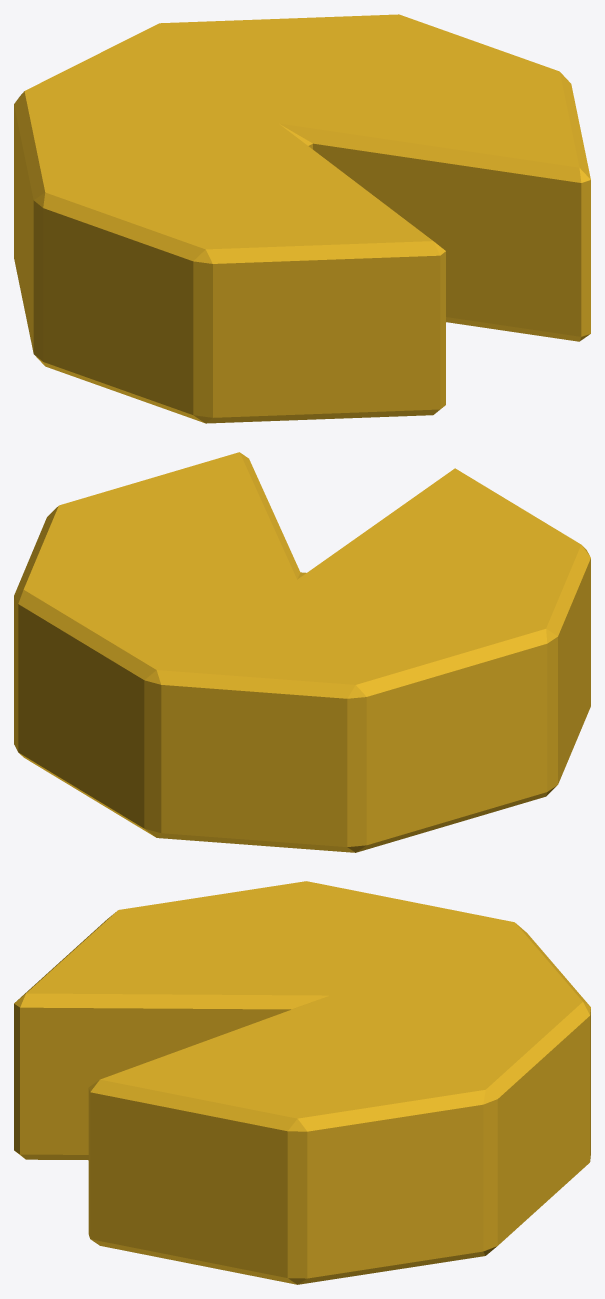
File: Cheese02.fbx
The picture shows the model from 3 angles, top to bottom: view 1: azimuth 30°, elevation 25°; view 2: azimuth 150°, elevation 25°; view 3: azimuth 270°, elevation 25°; orthographic projection. The views are drawn at different scales.
Parts seen in each view (by area): view 1: CheeseWheel.002; view 2: CheeseWheel.002; view 3: CheeseWheel.002.
Part boxes in pixels (box(x1,y1,x2,y2)): CheeseWheel.002: box(14, 14, 590, 423); CheeseWheel.002: box(14, 452, 590, 852); CheeseWheel.002: box(14, 881, 590, 1284).
Size of the model in its own units: 143 by 45.52 by 143.
